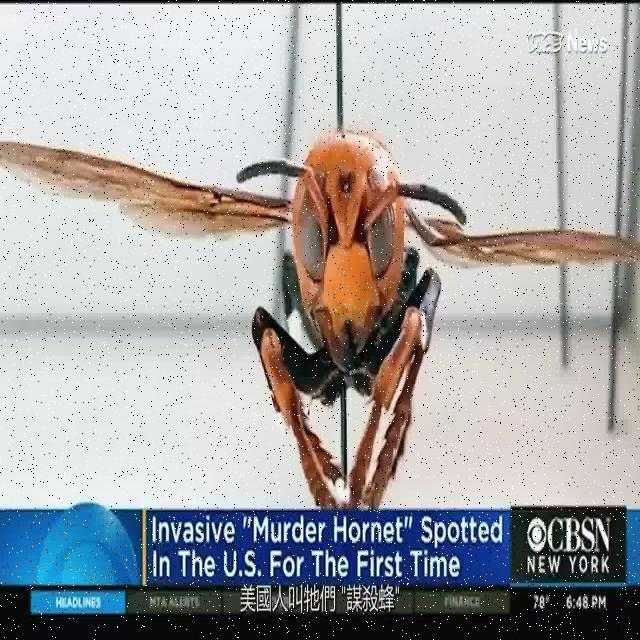Wasp: (3, 103, 635, 503)
